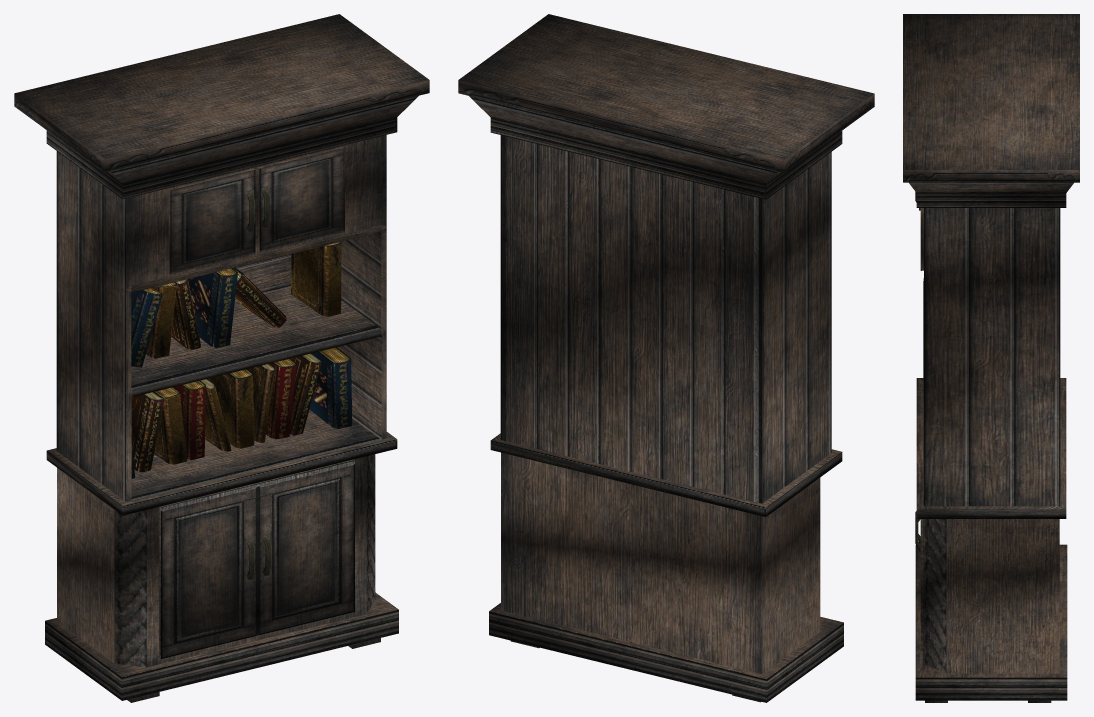
File: GS_VOB_BOOKCASE_BLACK_01_2_KOZA.glb
3 views of the same model, side by side, from view 1: azimuth 30°, elevation 25°; view 2: azimuth 150°, elevation 25°; view 3: azimuth 270°, elevation 25° (orthographic). The views are drawn at different scales.
Visible parts, largest first — view 1: Mesh; view 2: Mesh; view 3: Mesh.
Part boxes in pixels (left/top/right/bottom): Mesh: left=14, top=14, right=429, bottom=702; Mesh: left=458, top=14, right=874, bottom=702; Mesh: left=903, top=14, right=1079, bottom=702.
Size of the model in its own units: 1.41 by 2.33 by 0.6778.
5 materials, 5 textured.
